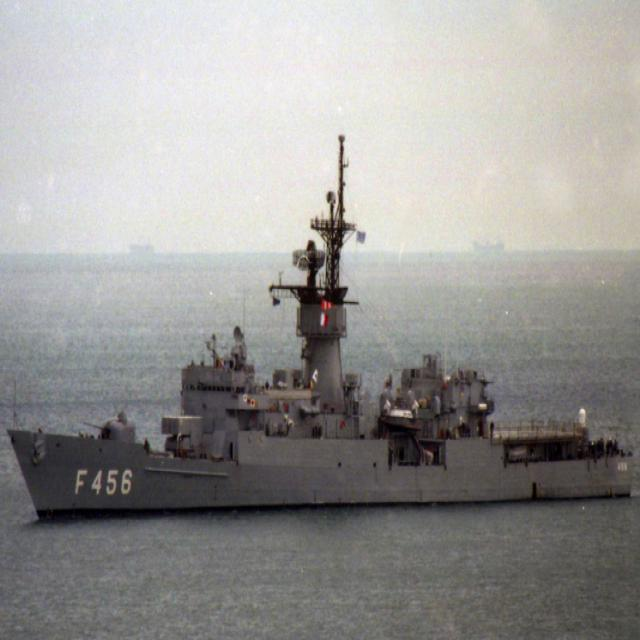Fragata: (2, 130, 640, 533)
